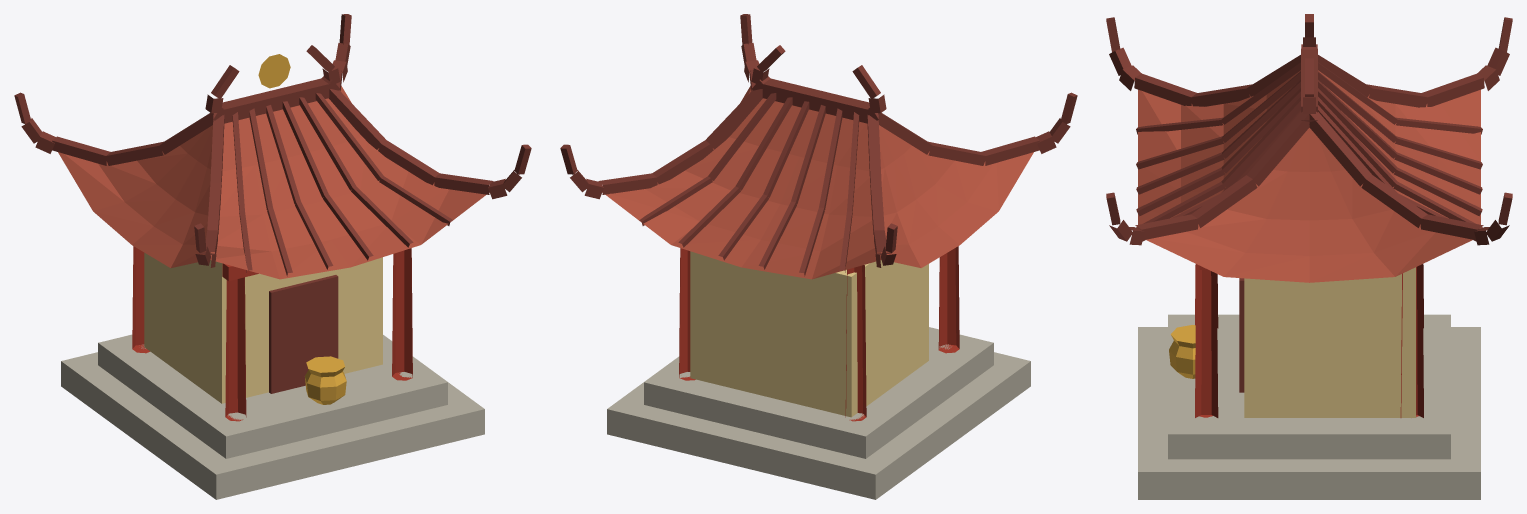
File: viet_shrine.glb
The picture shows the model from 3 angles, left to right: view 1: azimuth 30°, elevation 25°; view 2: azimuth 150°, elevation 25°; view 3: azimuth 270°, elevation 25°; orthographic projection. The views are drawn at different scales.
Parts seen in each view (by area): view 1: viet_shrine; view 2: viet_shrine; view 3: viet_shrine.
Part boxes in pixels (x1,y1,x2,y2): viet_shrine: (14, 14, 531, 499); viet_shrine: (560, 14, 1077, 499); viet_shrine: (1106, 14, 1512, 499).
Size of the model in its own units: 0.9803 by 1 by 0.9351.
